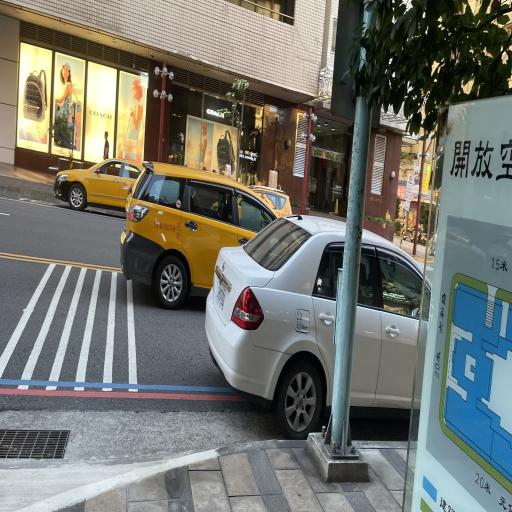MIU: (197, 326, 325, 456)
car: (199, 186, 446, 444), (115, 144, 314, 304), (50, 128, 149, 221)
redline: (0, 381, 256, 430)
